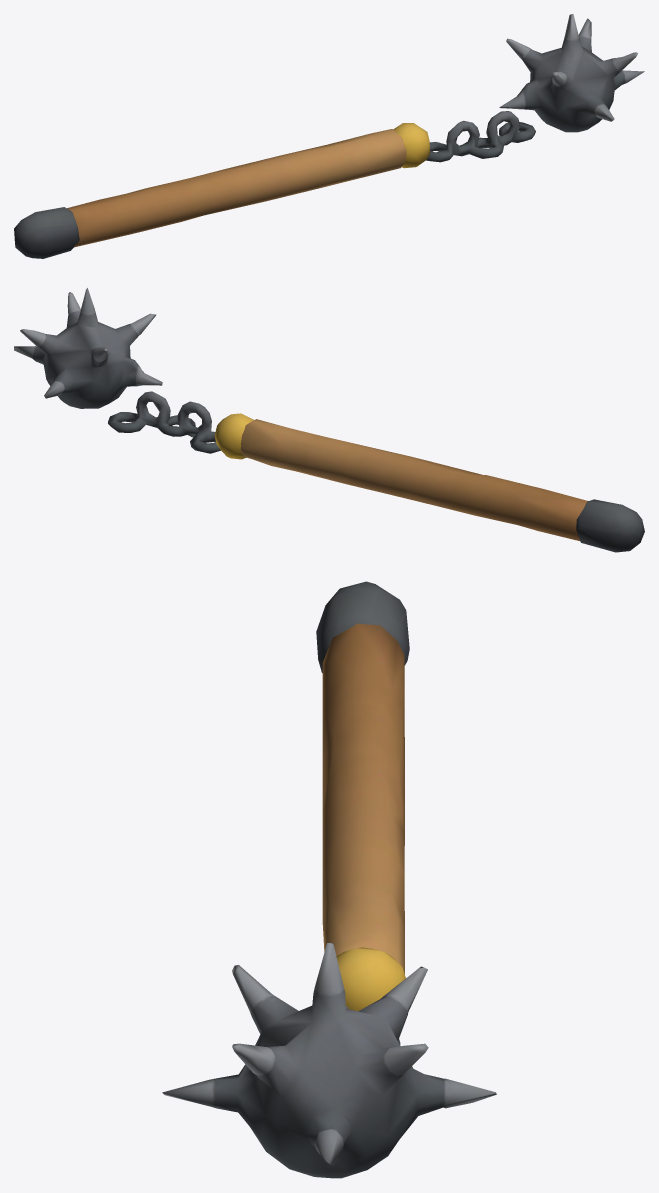
File: flail.glb
3 views of the same model, one above another, from view 1: azimuth 30°, elevation 25°; view 2: azimuth 150°, elevation 25°; view 3: azimuth 270°, elevation 25° (orthographic). The views are drawn at different scales.
Visible parts, largest first — view 1: handle; view 2: handle; view 3: handle.
Boxes of the visible parts, box(x1,y1,x2,y2) form: handle: box(14, 14, 644, 258); handle: box(14, 288, 644, 552); handle: box(162, 581, 496, 1178).
Size of the model in its own units: 0.8333 by 0.1552 by 0.1948.
1 material, 1 textured.
